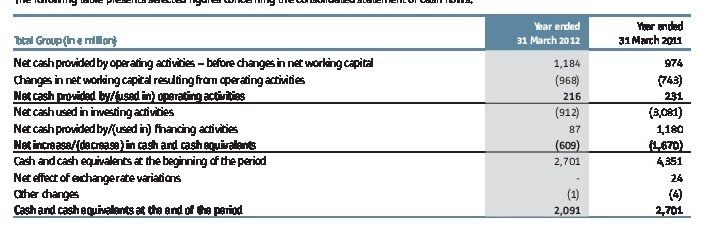table: (0, 0, 703, 235)
